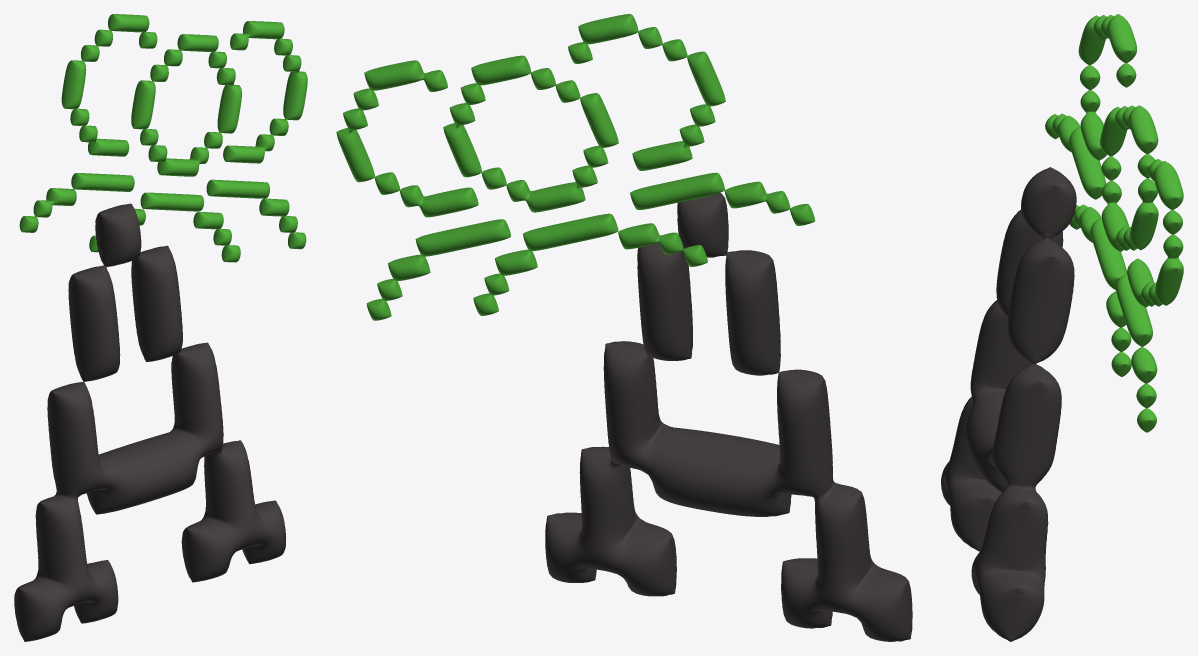
File: ssak-a.glb
The picture shows the model from 3 angles, left to right: view 1: azimuth 30°, elevation 25°; view 2: azimuth 150°, elevation 25°; view 3: azimuth 270°, elevation 25°; orthographic projection. The views are drawn at different scales.
Parts seen in each view (by area): view 1: 자산 7@300xTkr.006; view 2: 자산 7@300xTkr.006; view 3: 자산 7@300xTkr.006.
Part boxes in pixels (x1,y1,x2,y2): 자산 7@300xTkr.006: [14, 14, 307, 641]; 자산 7@300xTkr.006: [336, 14, 912, 641]; 자산 7@300xTkr.006: [941, 14, 1183, 641].
Size of the model in its own units: 5.39 by 7.24 by 2.79.
